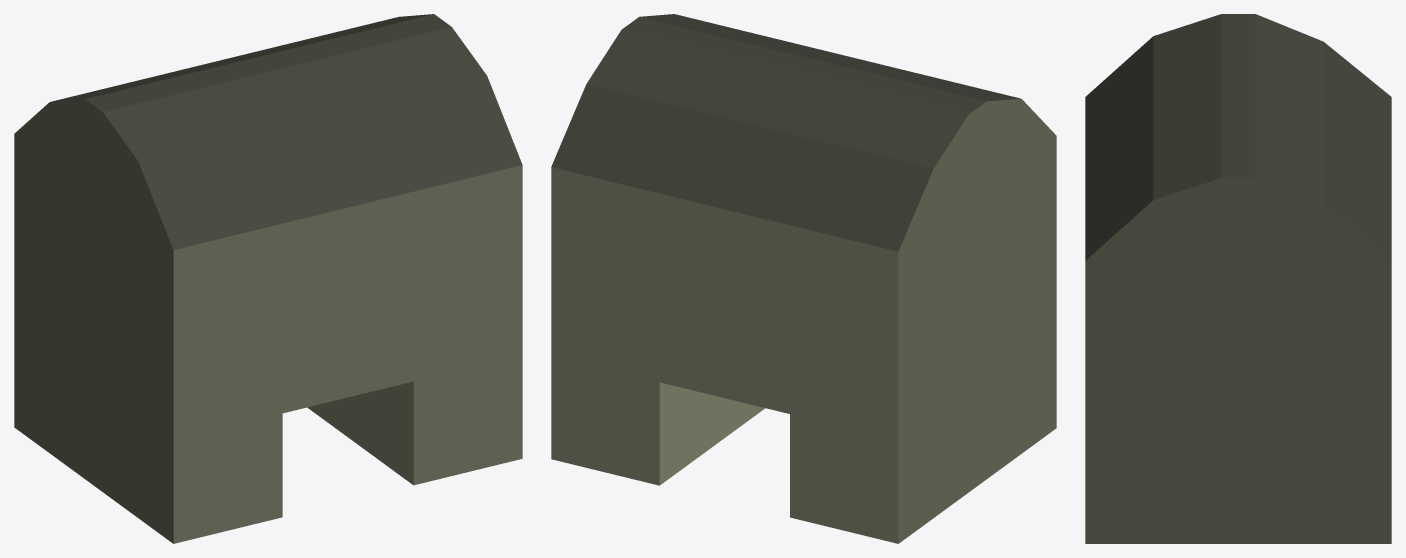
The model's file is Building_01_Passage.fbx.
3 renders of one model, left to right at view 1: azimuth 30°, elevation 25°; view 2: azimuth 150°, elevation 25°; view 3: azimuth 270°, elevation 25°, orthographic. The views are drawn at different scales.
Parts seen in each view (by area): view 1: Building_01_Passage; view 2: Building_01_Passage; view 3: Building_01_Passage.
Boxes of the visible parts, x1,y1,x2,y2 form: Building_01_Passage: [14, 14, 522, 543]; Building_01_Passage: [551, 14, 1056, 543]; Building_01_Passage: [1085, 14, 1391, 543].
Size of the model in its own units: 110 by 114 by 86.47.
